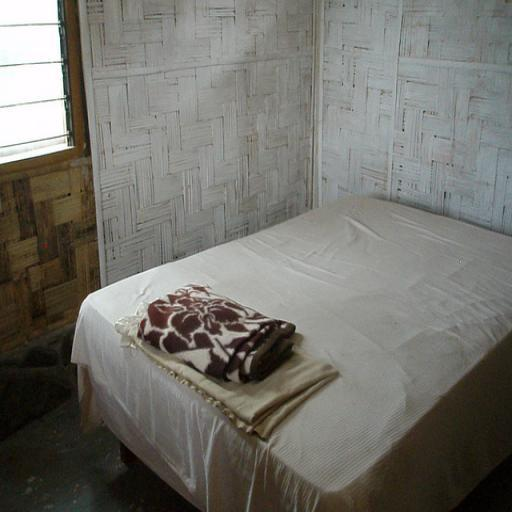bed: (69, 188, 512, 511)
